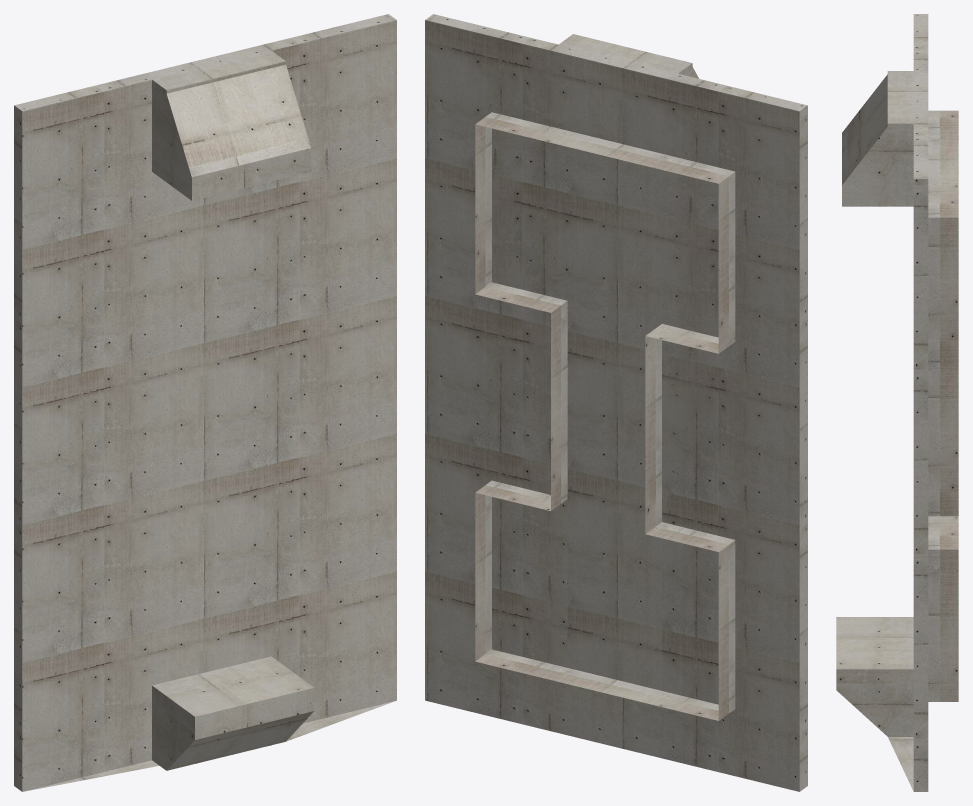
File: pier_cap_03.obj
The picture shows the model from 3 angles, left to right: view 1: azimuth 30°, elevation 25°; view 2: azimuth 150°, elevation 25°; view 3: azimuth 270°, elevation 25°; orthographic projection. The views are drawn at different scales.
Visible parts, largest first — view 1: _4; view 2: _4; view 3: _4.
Part boxes in pixels (box(x1,y1,x2,y2)): _4: box(14, 14, 396, 791); _4: box(425, 14, 807, 791); _4: box(836, 14, 958, 791).
Bounding box in the file's own units: 3.39 × 5.89 × 1.06.
1 material, 1 textured.
